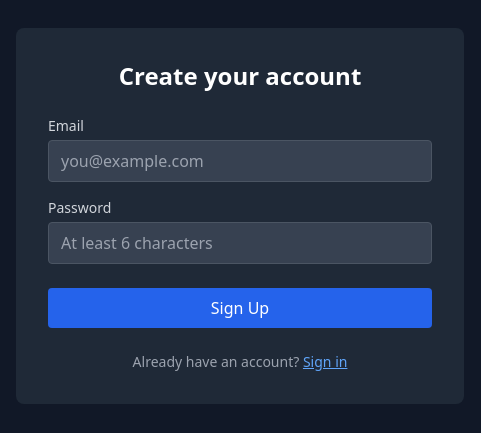
Test: SignUpPage › displays password validation error for short password
This screenshot has width=481, height=433.
In the field labelled "Email": (240, 161) [48,140,432,182], type "test@example.com"
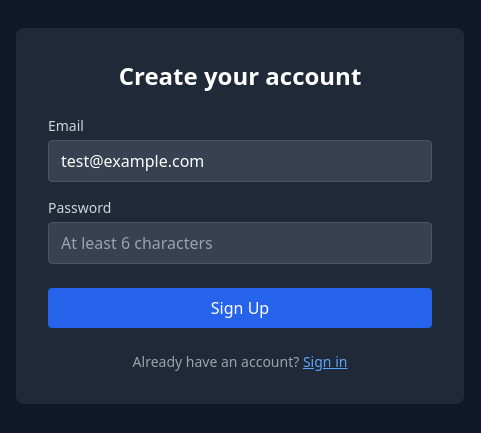
In the password field labelled "Password": (240, 243) [48,222,432,264], type "12345"
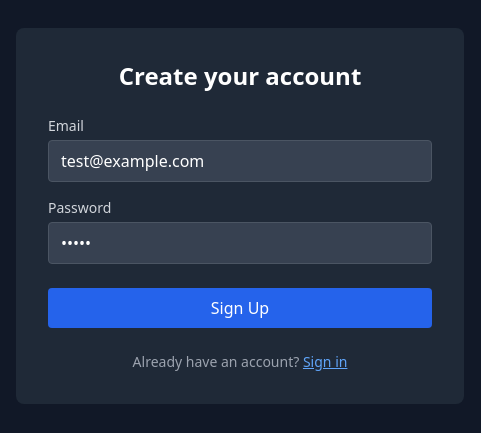
Click the button "Sign Up": (240, 308) [48,288,432,328]
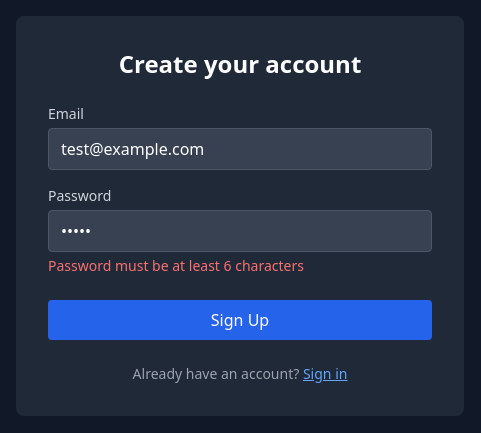
Result: the text "Password must be at least 6 characters" is shown at [48,256,304,275]
